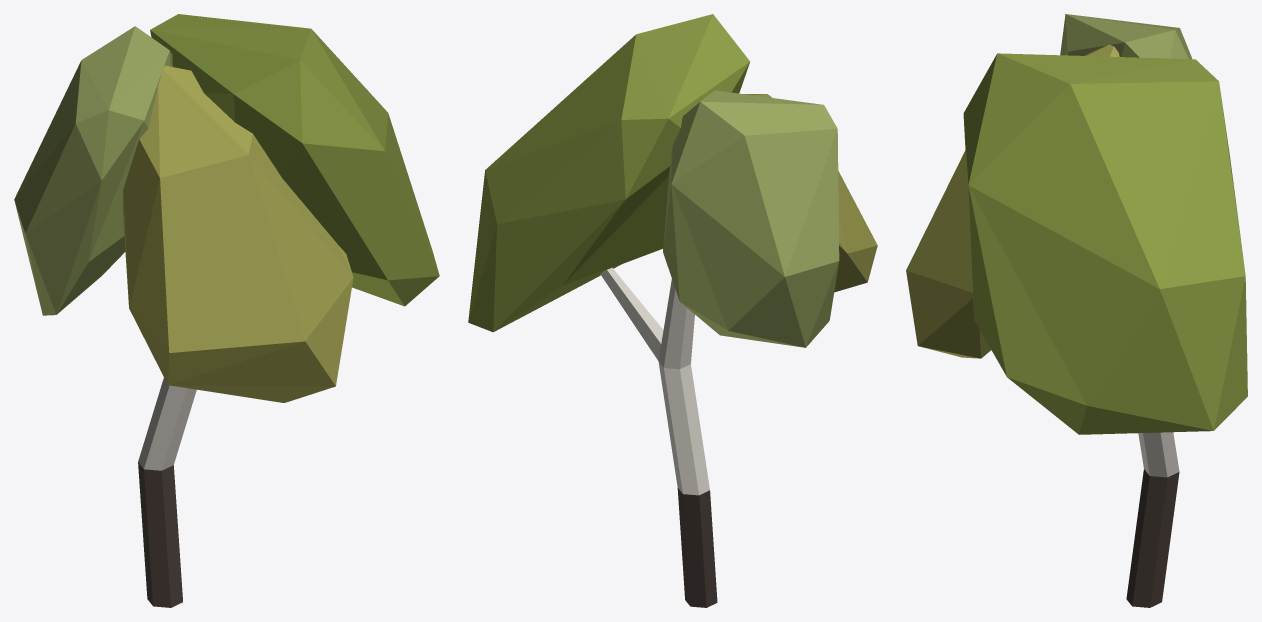
File: Tree Type5 01.glb
3 views of the same model, side by side, from view 1: azimuth 30°, elevation 25°; view 2: azimuth 150°, elevation 25°; view 3: azimuth 270°, elevation 25° (orthographic). The views are drawn at different scales.
Visible parts, largest first — view 1: Tree_Type5_01_mesh; view 2: Tree_Type5_01_mesh; view 3: Tree_Type5_01_mesh.
Boxes of the visible parts, x1=… form: Tree_Type5_01_mesh: x1=14, y1=14, x2=439, y2=607; Tree_Type5_01_mesh: x1=468, y1=14, x2=877, y2=607; Tree_Type5_01_mesh: x1=906, y1=14, x2=1247, y2=607.
Bounding box in the file's own units: 1.22 × 1.76 × 0.9458.
Materials: 1 (1 with a texture image).
